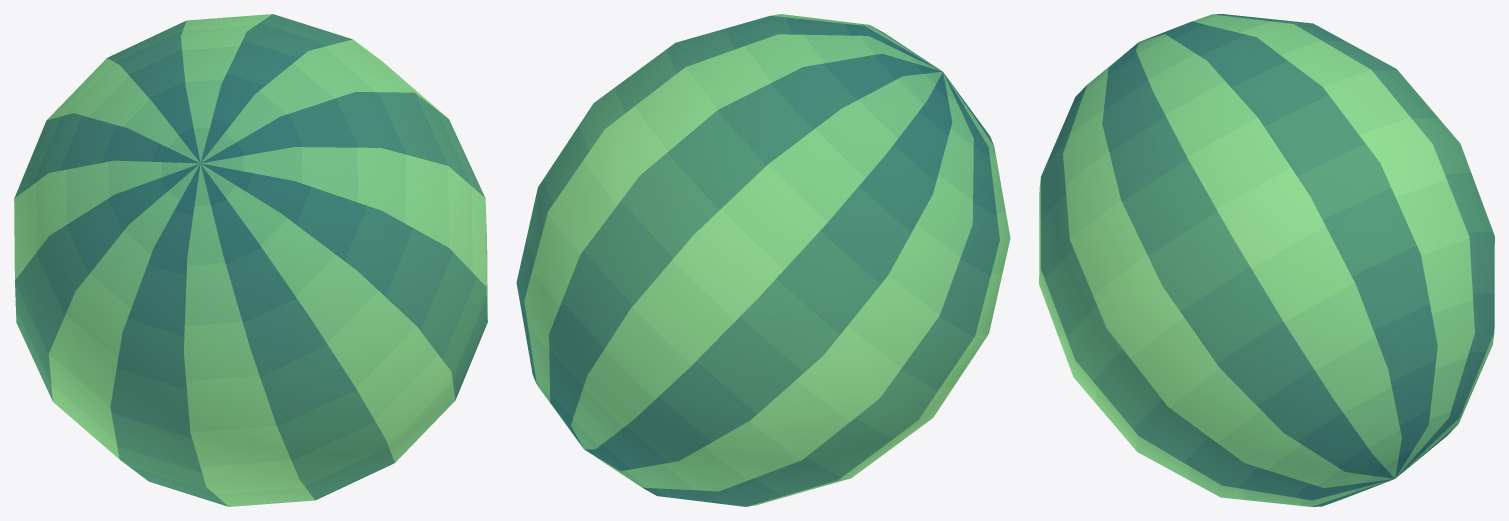
Rendered from watermelon_whole.glb.
3 renders of one model, left to right at view 1: azimuth 30°, elevation 25°; view 2: azimuth 150°, elevation 25°; view 3: azimuth 270°, elevation 25°, orthographic. The views are drawn at different scales.
Visible parts, largest first — view 1: mesh_watermelon_01 - Default.001_0; view 2: mesh_watermelon_01 - Default.001_0; view 3: mesh_watermelon_01 - Default.001_0.
Part boxes in pixels (left/top/right/bottom): mesh_watermelon_01 - Default.001_0: left=14, top=14, right=487, bottom=506; mesh_watermelon_01 - Default.001_0: left=516, top=14, right=1010, bottom=506; mesh_watermelon_01 - Default.001_0: left=1039, top=14, right=1494, bottom=506.
Bounding box in the file's own units: 179 × 190 × 179.
1 material, 1 textured.
